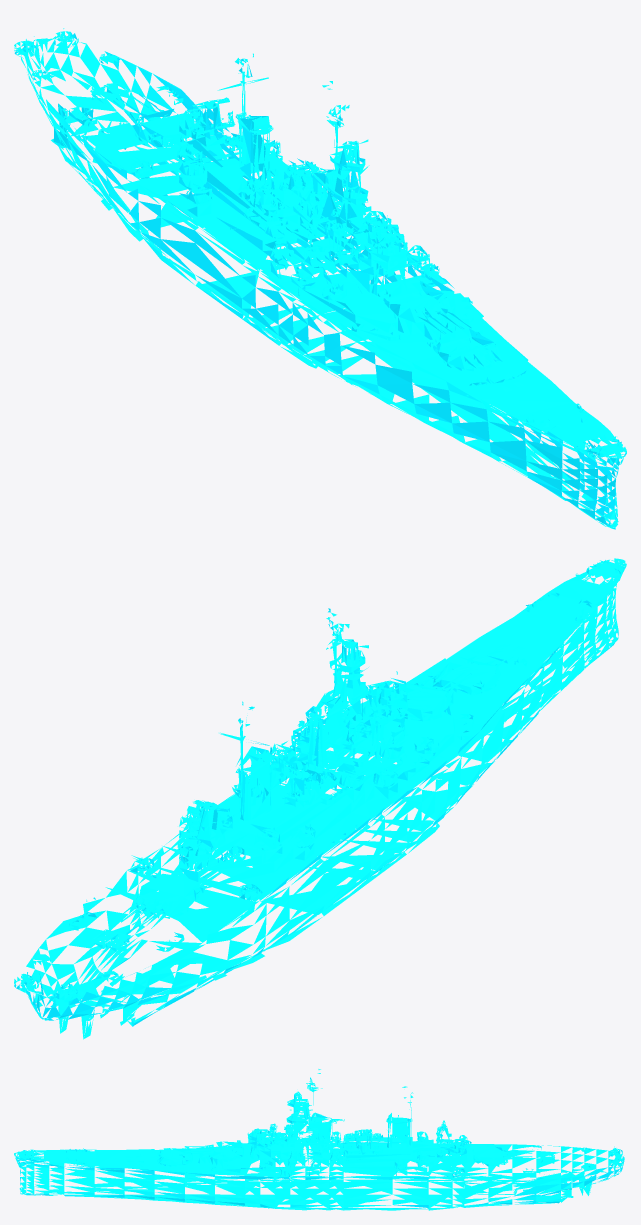
Rendered from Black_Rhode_Island.glb.
3 views of the same model, one above another, from view 1: azimuth 30°, elevation 25°; view 2: azimuth 150°, elevation 25°; view 3: azimuth 270°, elevation 25° (orthographic). The views are drawn at different scales.
Size of the model in its own units: 2.24 by 3.91 by 17.21.
